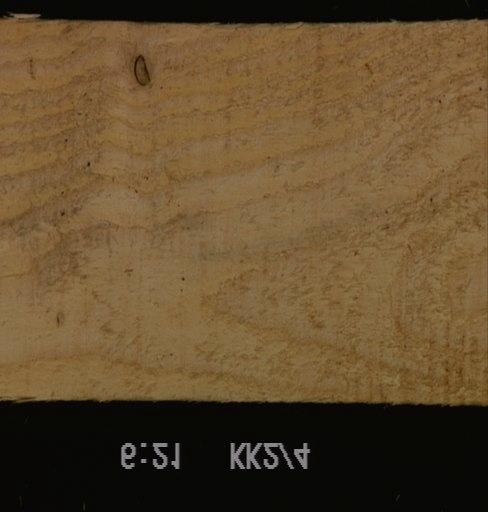dry_knot: (132, 52, 151, 87)
